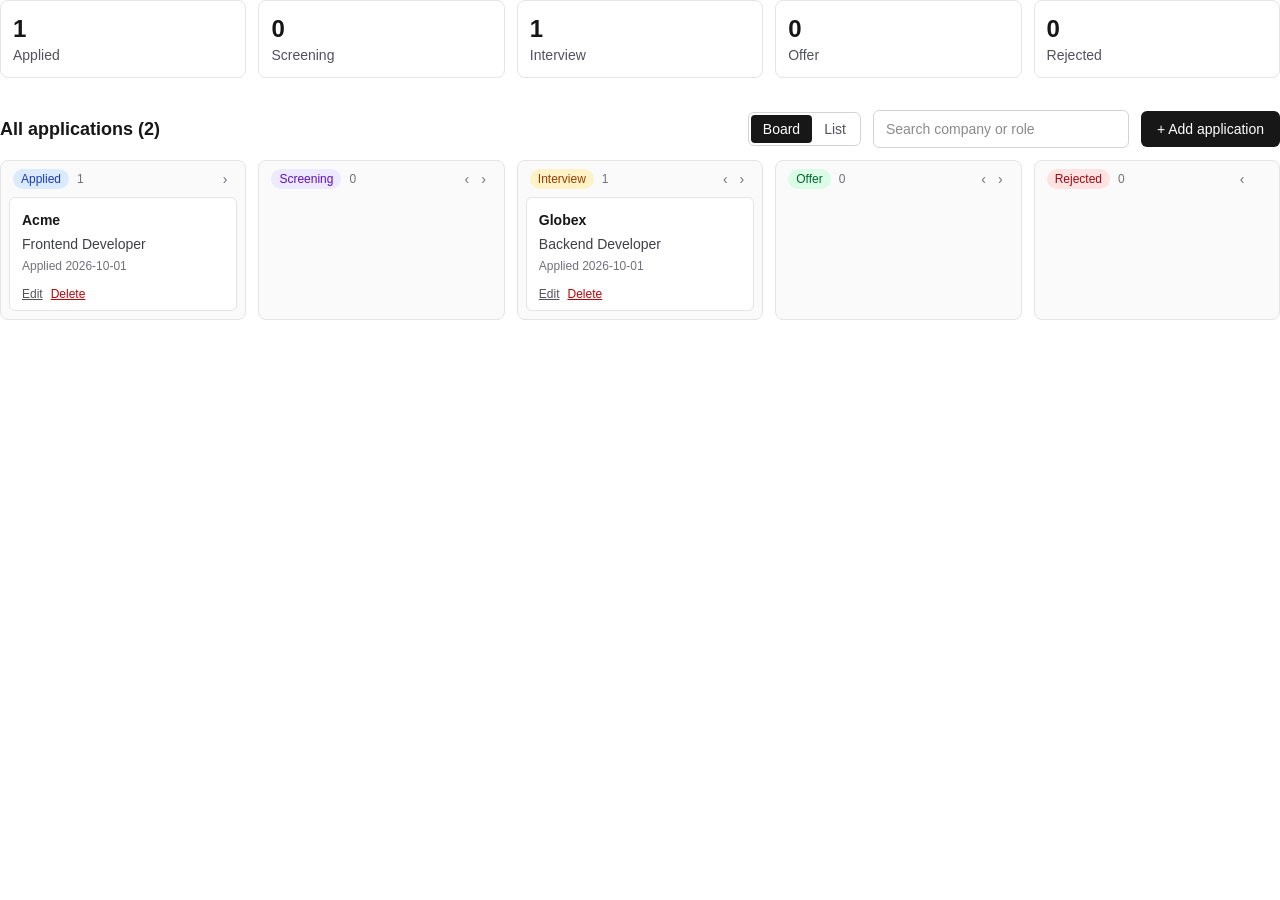
Scenario: Fill from link › is disabled until a link is entered
Click the button "+ Add application" at (1210, 129), box top-left (1141, 111), bottom-right (1279, 147)
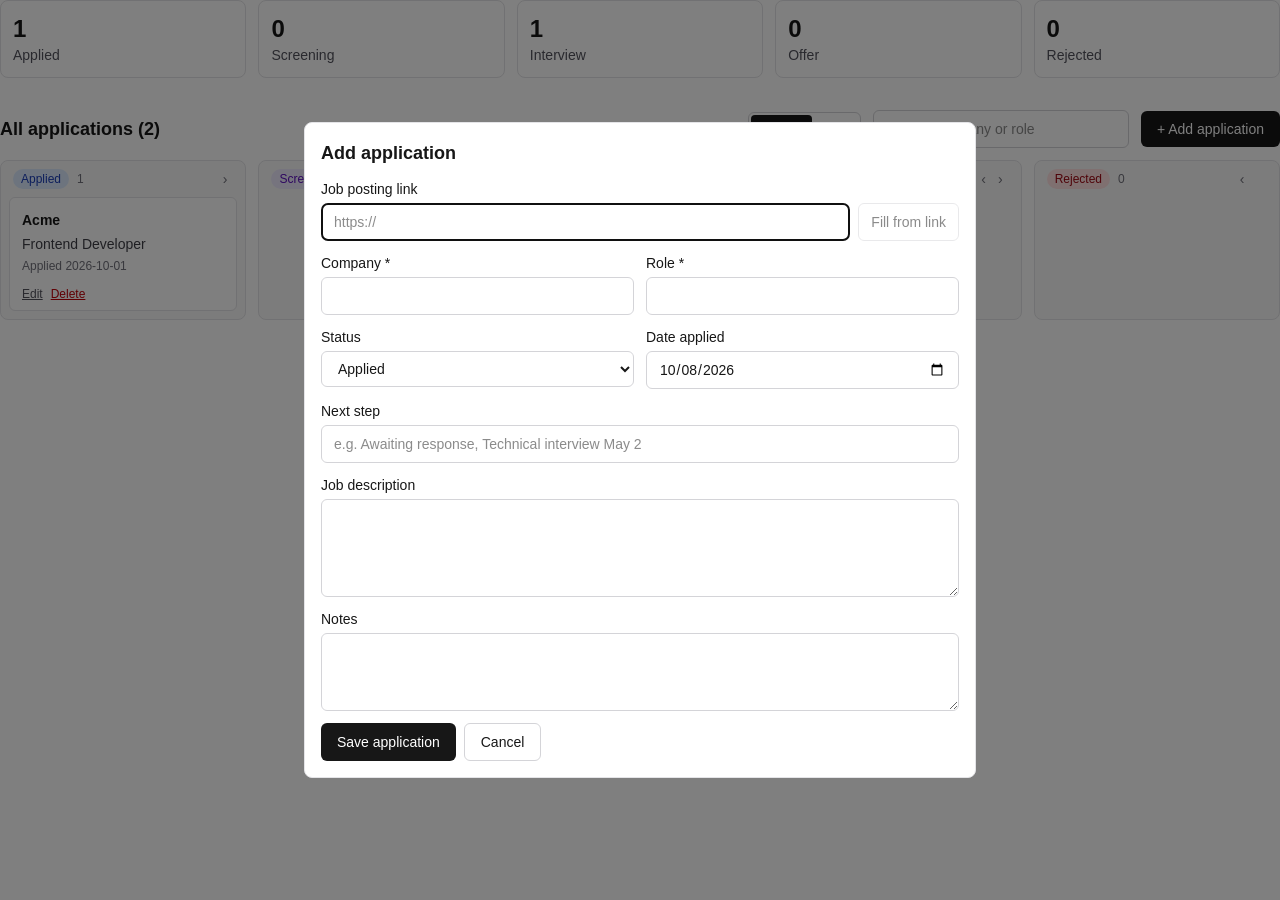
Now the button "Fill from link" is disabled, box top-left (858, 203), bottom-right (959, 241)
Type "https://jobs.jouwweb.nl/o/front-end-engineer" into the field labelled "Job posting link" at (586, 222), box top-left (321, 203), bottom-right (850, 241)
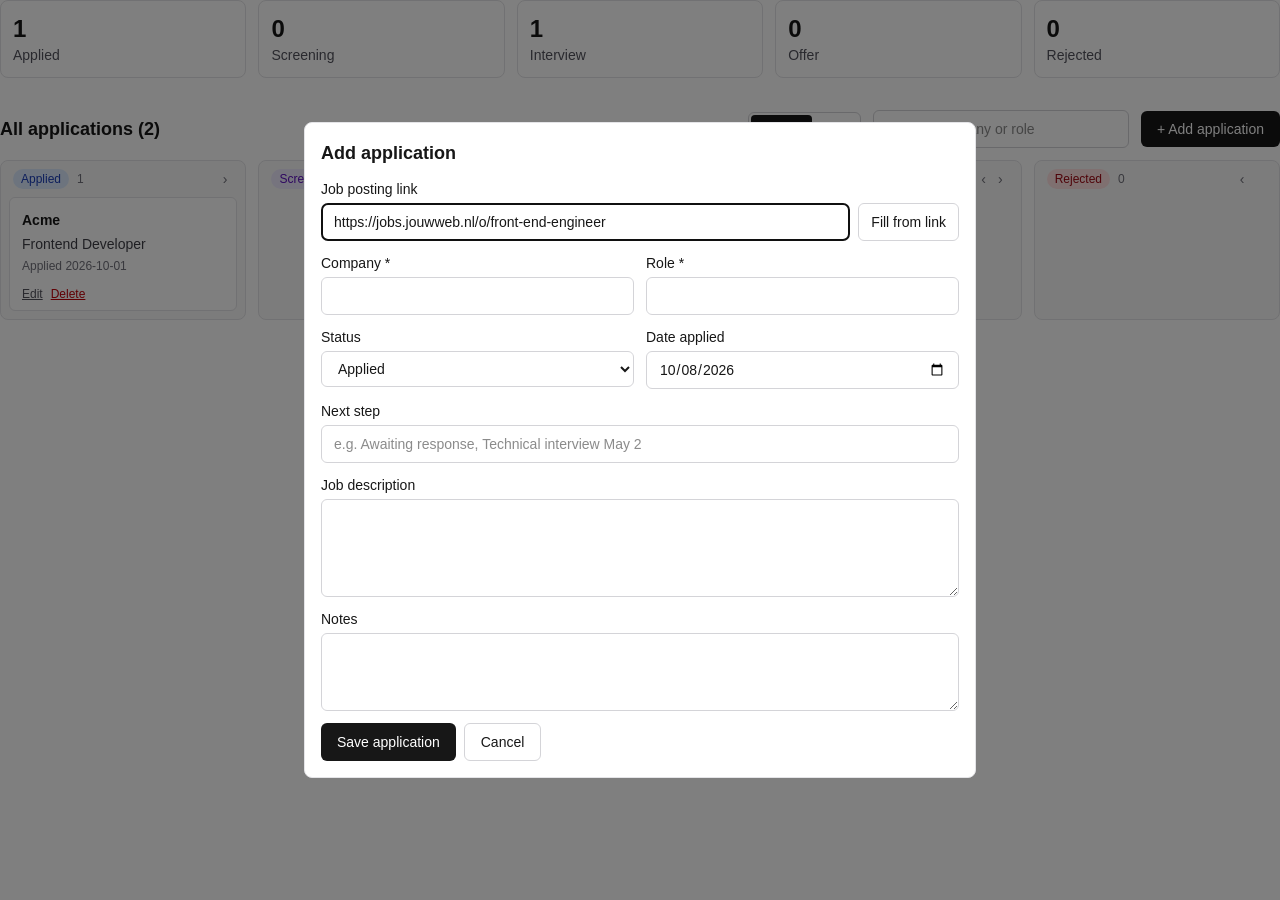
Now the button "Fill from link" is enabled, box top-left (858, 203), bottom-right (959, 241)
